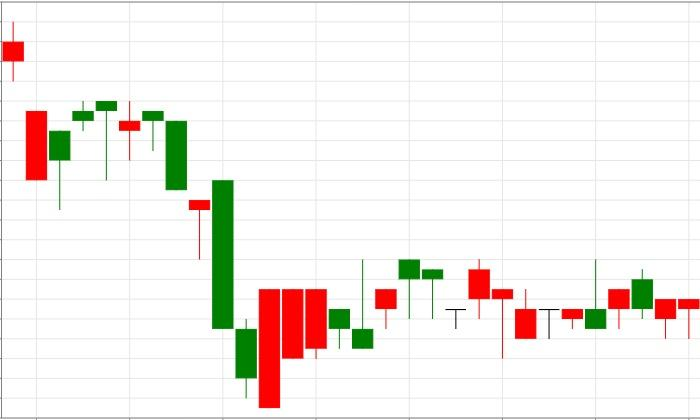bullish_engulfing_rise: (142, 111, 280, 408)
